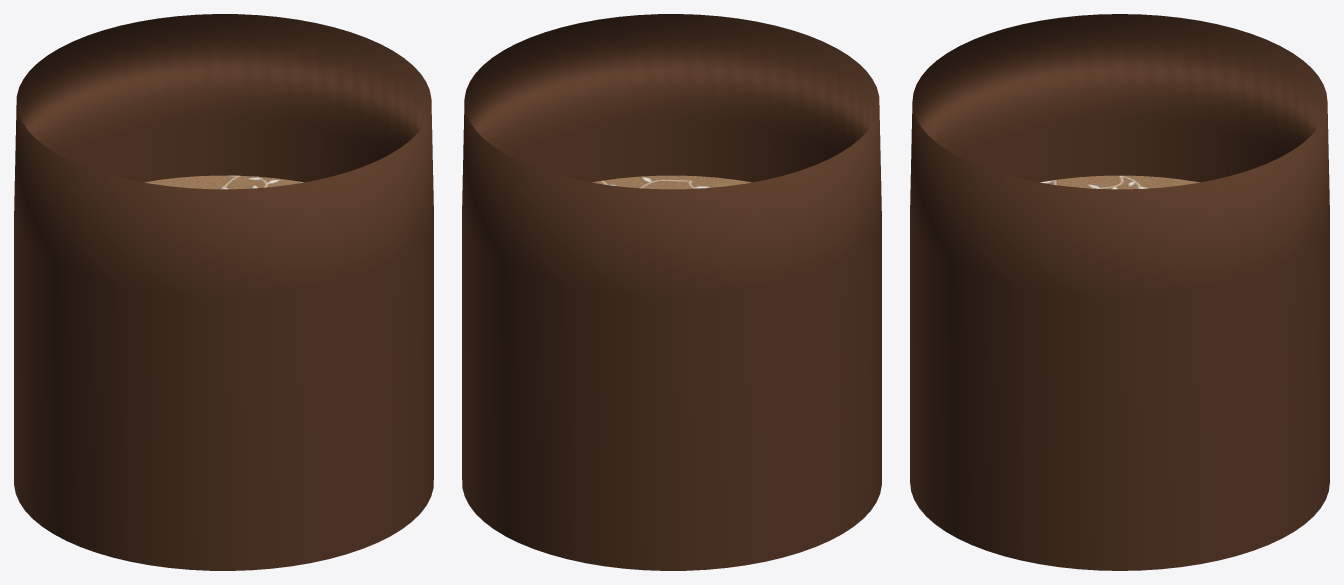
The model's file is sh-scopia-round-carpet.glb.
The picture shows the model from 3 angles, left to right: view 1: azimuth 30°, elevation 25°; view 2: azimuth 150°, elevation 25°; view 3: azimuth 270°, elevation 25°; orthographic projection.
Visible parts, largest first — view 1: ext_rug_Cylinder, int_rug_Cylinder.001; view 2: ext_rug_Cylinder, int_rug_Cylinder.001; view 3: ext_rug_Cylinder, int_rug_Cylinder.001.
Part boxes in pixels (<box>): ext_rug_Cylinder: <box>14,14,433,570</box>; int_rug_Cylinder.001: <box>144,175,303,189</box>; ext_rug_Cylinder: <box>462,14,881,570</box>; int_rug_Cylinder.001: <box>592,175,751,189</box>; ext_rug_Cylinder: <box>910,14,1329,570</box>; int_rug_Cylinder.001: <box>1040,175,1199,189</box>.
Size of the model in its own units: 1 by 1 by 1.
Materials: 2 (1 with a texture image).
